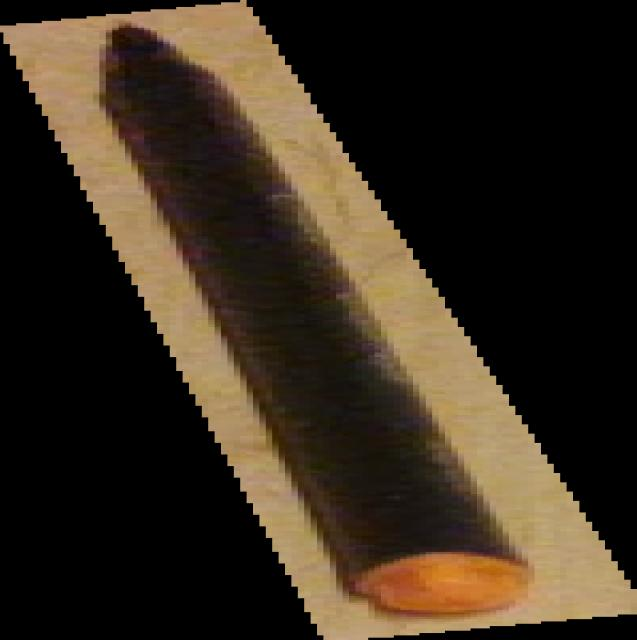orange: (0, 1, 637, 640)
